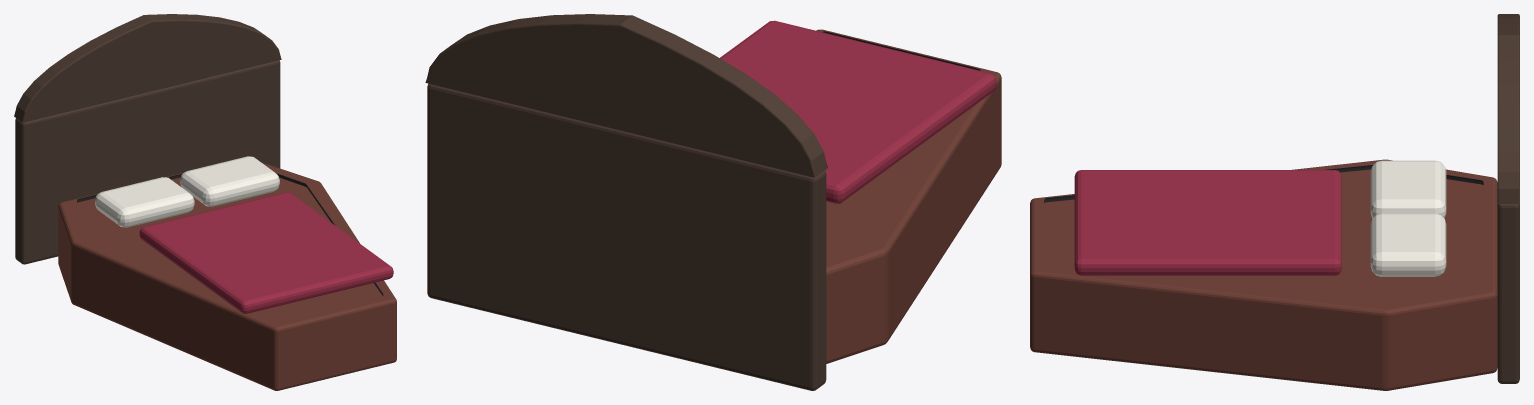
Rendered from bed_coffin_bed.glb.
3 views of the same model, side by side, from view 1: azimuth 30°, elevation 25°; view 2: azimuth 150°, elevation 25°; view 3: azimuth 270°, elevation 25° (orthographic). The views are drawn at different scales.
Visible parts, largest first — view 1: GD_bed_coffin_bed__m4, GD_bed_coffin_bed__m0, GD_bed_coffin_bed__m2, GD_bed_coffin_bed__m3, GD_bed_coffin_bed__m1; view 2: GD_bed_coffin_bed__m4, GD_bed_coffin_bed__m0, GD_bed_coffin_bed__m2; view 3: GD_bed_coffin_bed__m0, GD_bed_coffin_bed__m2, GD_bed_coffin_bed__m3, GD_bed_coffin_bed__m4, GD_bed_coffin_bed__m1.
Part boxes in pixels (<box>): GD_bed_coffin_bed__m4: <box>14,14,281,264</box>; GD_bed_coffin_bed__m0: <box>58,162,396,390</box>; GD_bed_coffin_bed__m2: <box>139,192,393,313</box>; GD_bed_coffin_bed__m3: <box>95,156,279,227</box>; GD_bed_coffin_bed__m1: <box>77,173,383,295</box>; GD_bed_coffin_bed__m4: <box>425,14,827,390</box>; GD_bed_coffin_bed__m0: <box>816,29,1001,363</box>; GD_bed_coffin_bed__m2: <box>720,20,996,203</box>; GD_bed_coffin_bed__m0: <box>1030,159,1497,390</box>; GD_bed_coffin_bed__m2: <box>1074,170,1341,275</box>; GD_bed_coffin_bed__m3: <box>1370,160,1446,276</box>; GD_bed_coffin_bed__m4: <box>1497,14,1519,383</box>; GD_bed_coffin_bed__m1: <box>1044,165,1483,203</box>.
Bounding box in the file's own units: 1.7 × 1.39 × 2.2.
